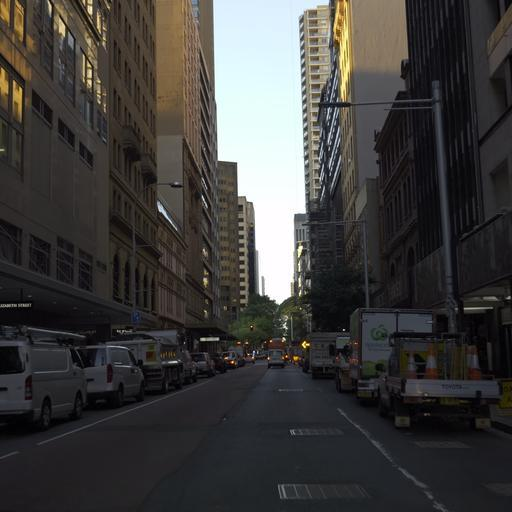Street light: (315, 79, 459, 332), (129, 179, 183, 327), (301, 217, 370, 307), (288, 307, 301, 341)
